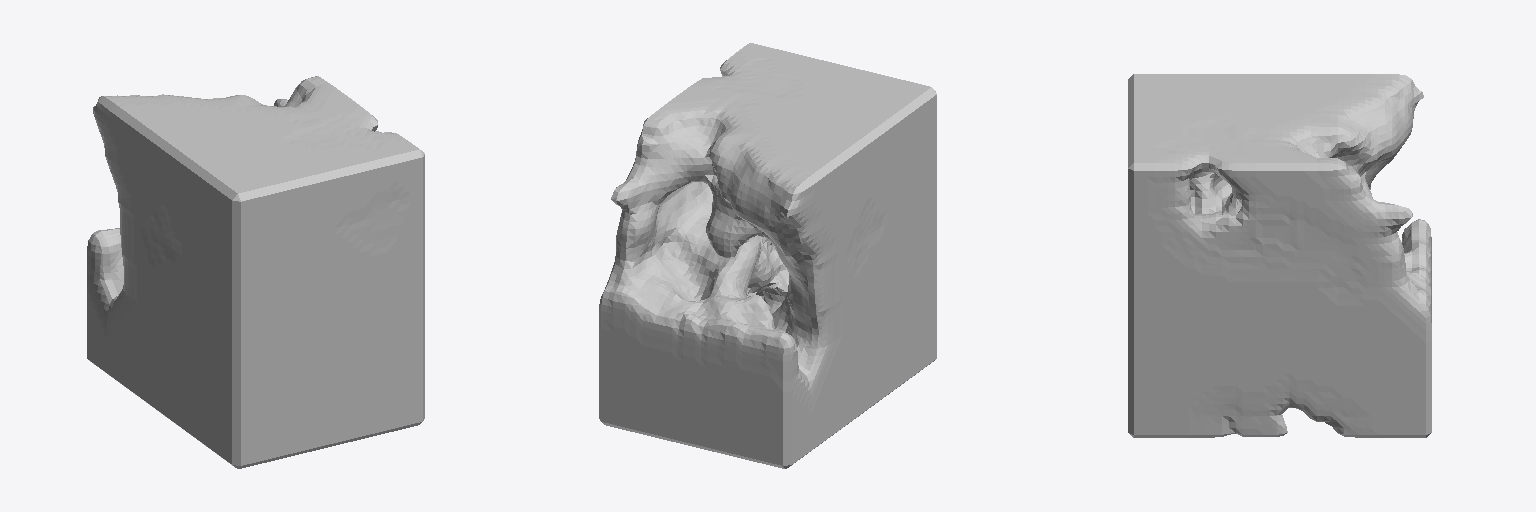
The picture shows the model from 3 angles: view 1: azimuth 30°, elevation 25°; view 2: azimuth 150°, elevation 25°; view 3: azimuth 270°, elevation 25°; orthographic projection.
Parts seen in each view (by area): view 1: Liquid_Domain; view 2: Liquid_Domain; view 3: Liquid_Domain.
Boxes of the visible parts, x1,y1,x2,y2 form: Liquid_Domain: [87, 76, 424, 468]; Liquid_Domain: [599, 43, 936, 468]; Liquid_Domain: [1128, 74, 1431, 437].
Bounding box in the file's own units: 79.09 × 108 × 108.